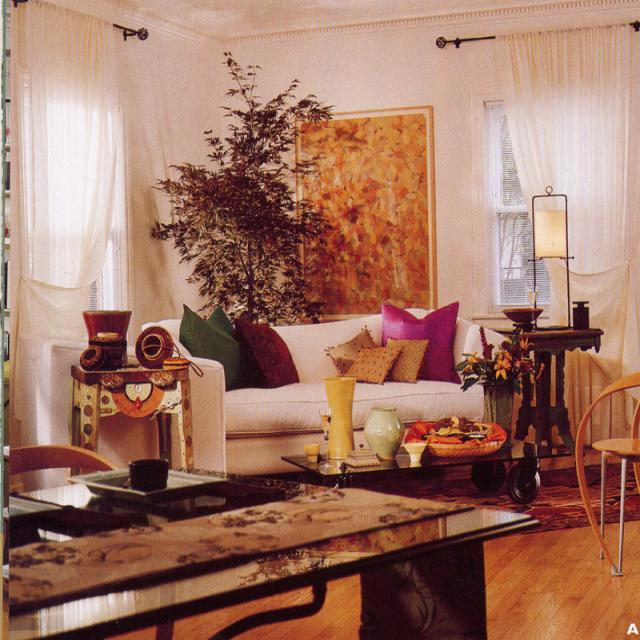painting crop: (293, 104, 438, 320)
vase -X: (326, 376, 357, 457)
